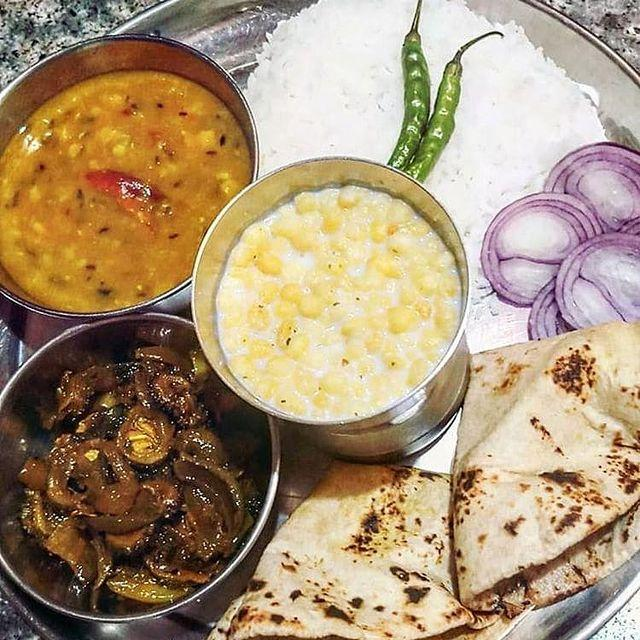Roti: (228, 451, 522, 640), (445, 344, 640, 606)
